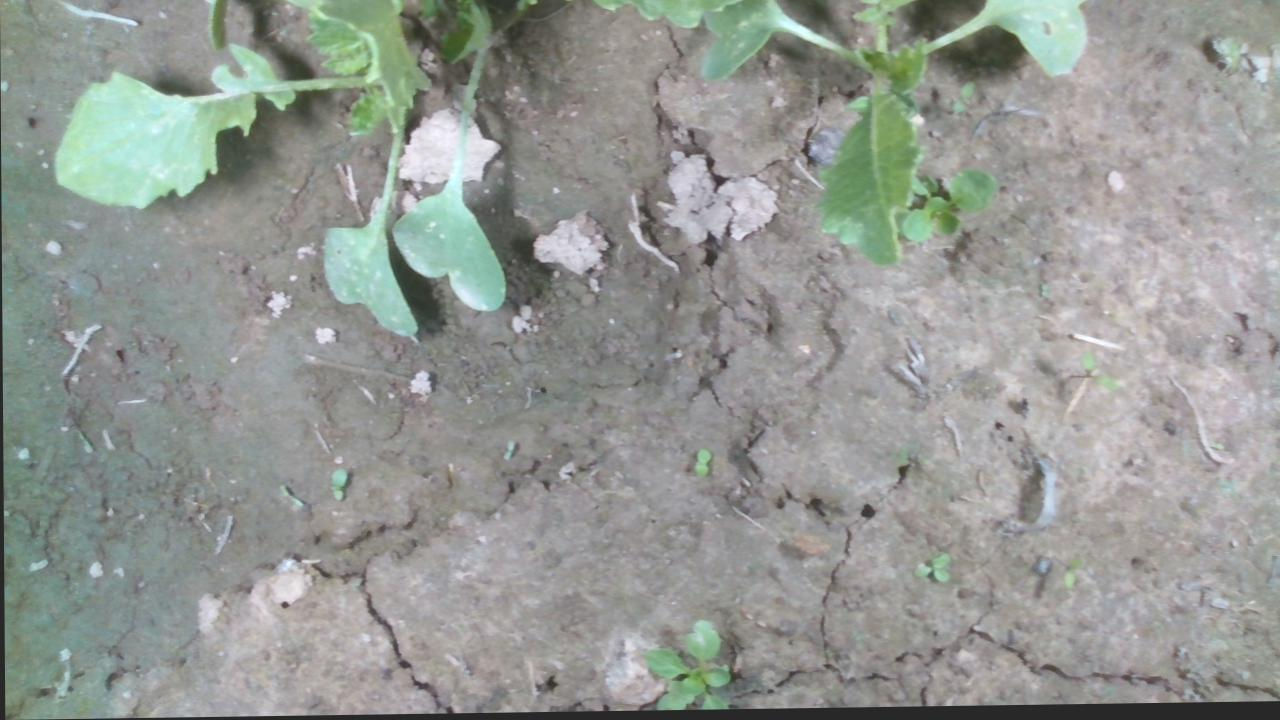weed: (1078, 353, 1116, 394), (905, 553, 947, 587), (946, 82, 975, 120), (1059, 555, 1080, 593), (325, 467, 346, 503), (691, 449, 711, 478)
